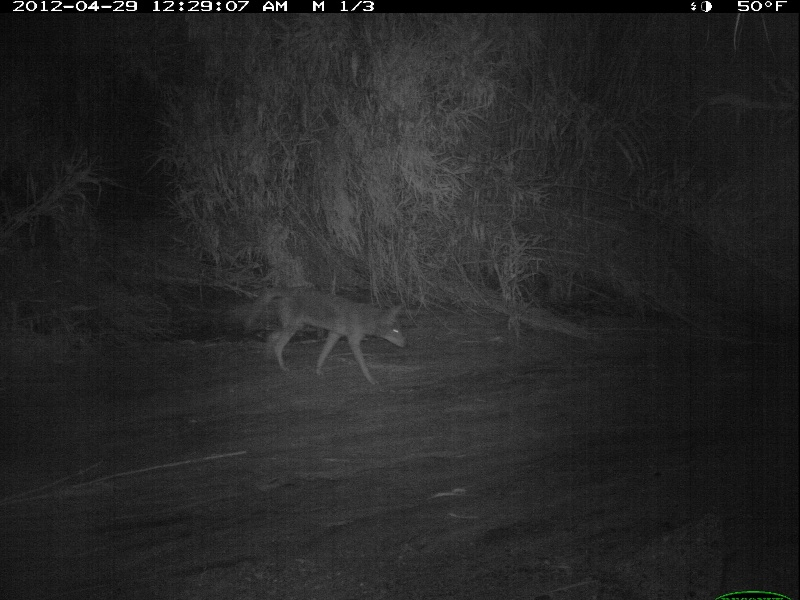coyote: (241, 283, 409, 387)
